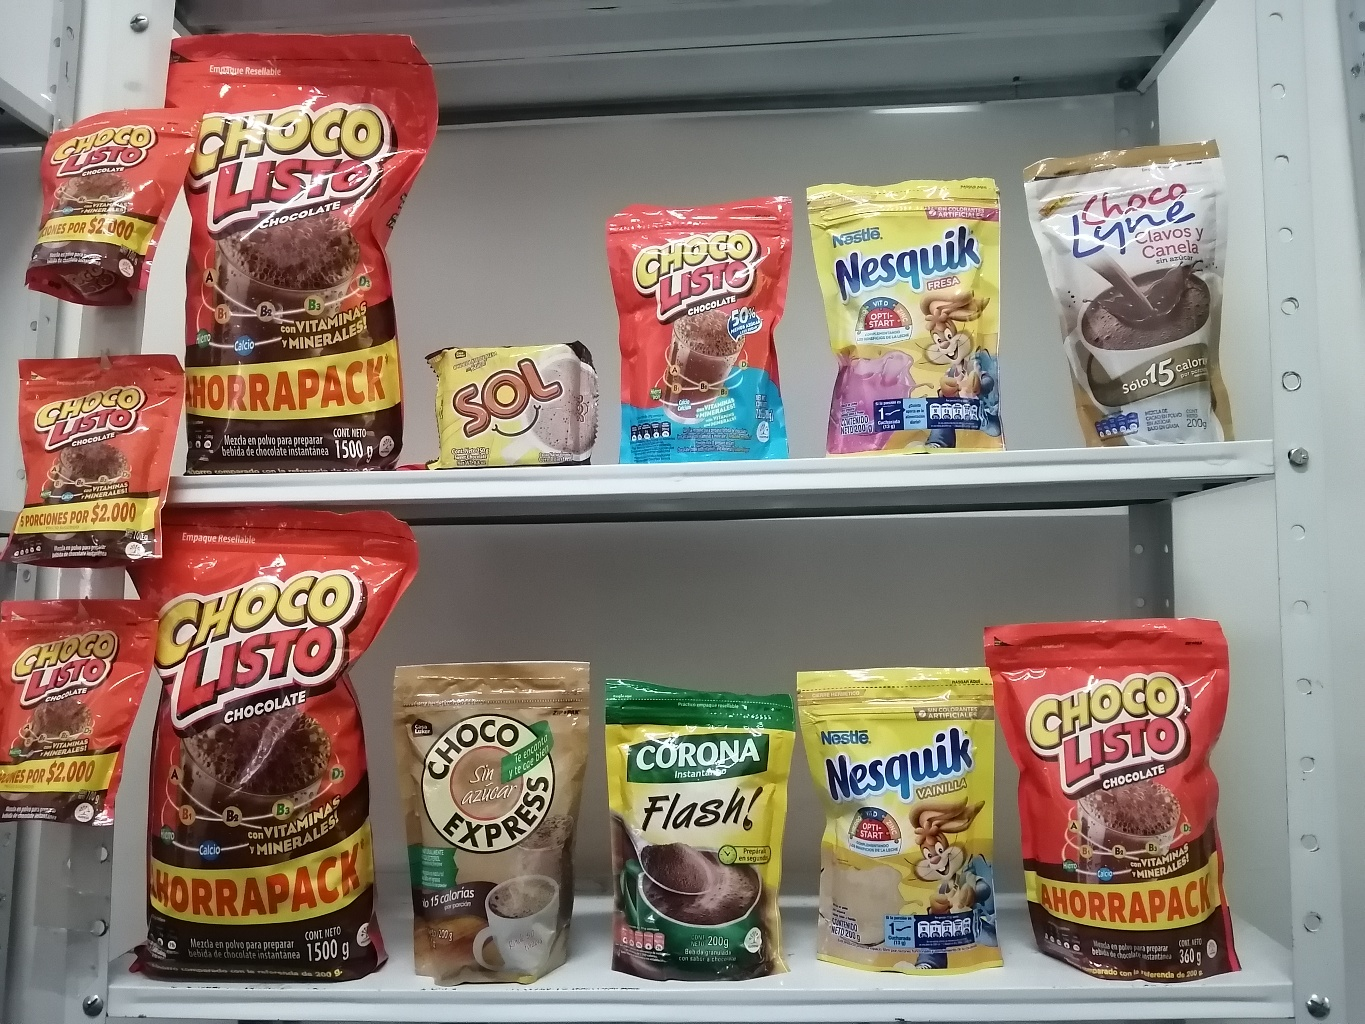COL0170103DYP1,500: (157, 18, 449, 466)
COL0170103DYP36000: (993, 607, 1278, 982)
COL0170104DYP20000: (584, 177, 807, 461)
COL0170305DYP20000: (801, 163, 1030, 453)
COL0170306DYP20000: (791, 655, 1016, 989)
